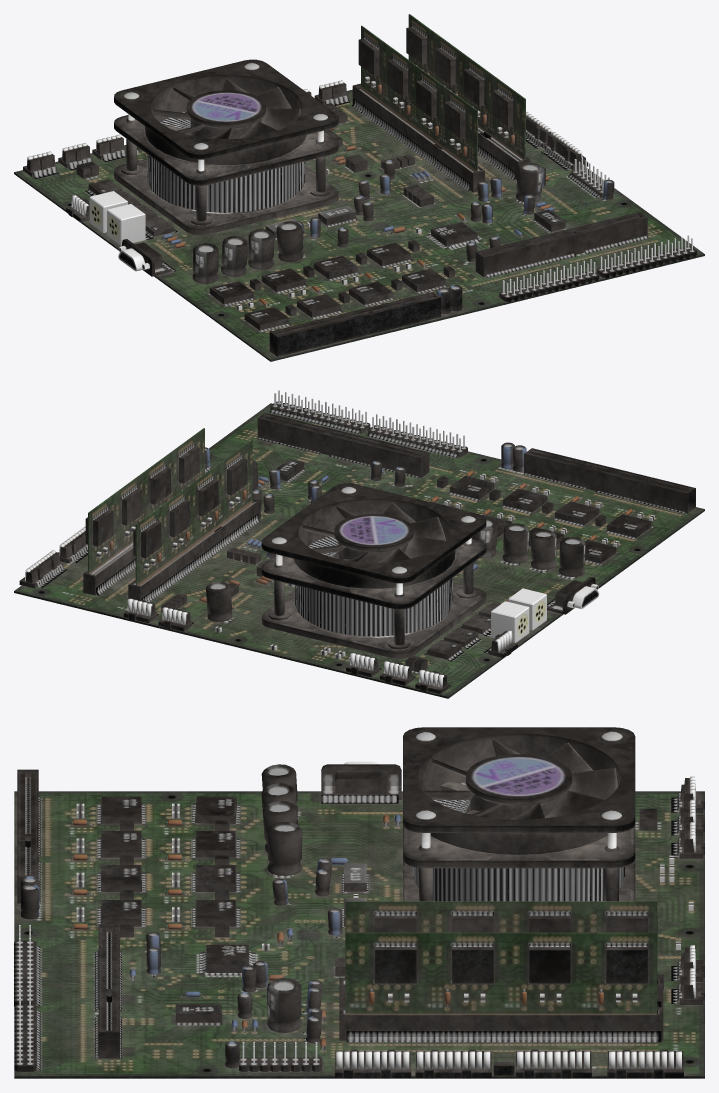
The model's file is circuit_board.glb.
The picture shows the model from 3 angles, top to bottom: view 1: azimuth 30°, elevation 25°; view 2: azimuth 150°, elevation 25°; view 3: azimuth 270°, elevation 25°; orthographic projection. The views are drawn at different scales.
Parts seen in each view (by area): view 1: circuit_board; view 2: circuit_board; view 3: circuit_board.
Part boxes in pixels (left/top/right/bottom): circuit_board: left=14, top=14, right=704, bottom=361; circuit_board: left=14, top=390, right=704, bottom=698; circuit_board: left=14, top=727, right=704, bottom=1078.
Size of the model in its own units: 0.4035 by 0.0783 by 0.3974.
Materials: 2 (2 with a texture image).
